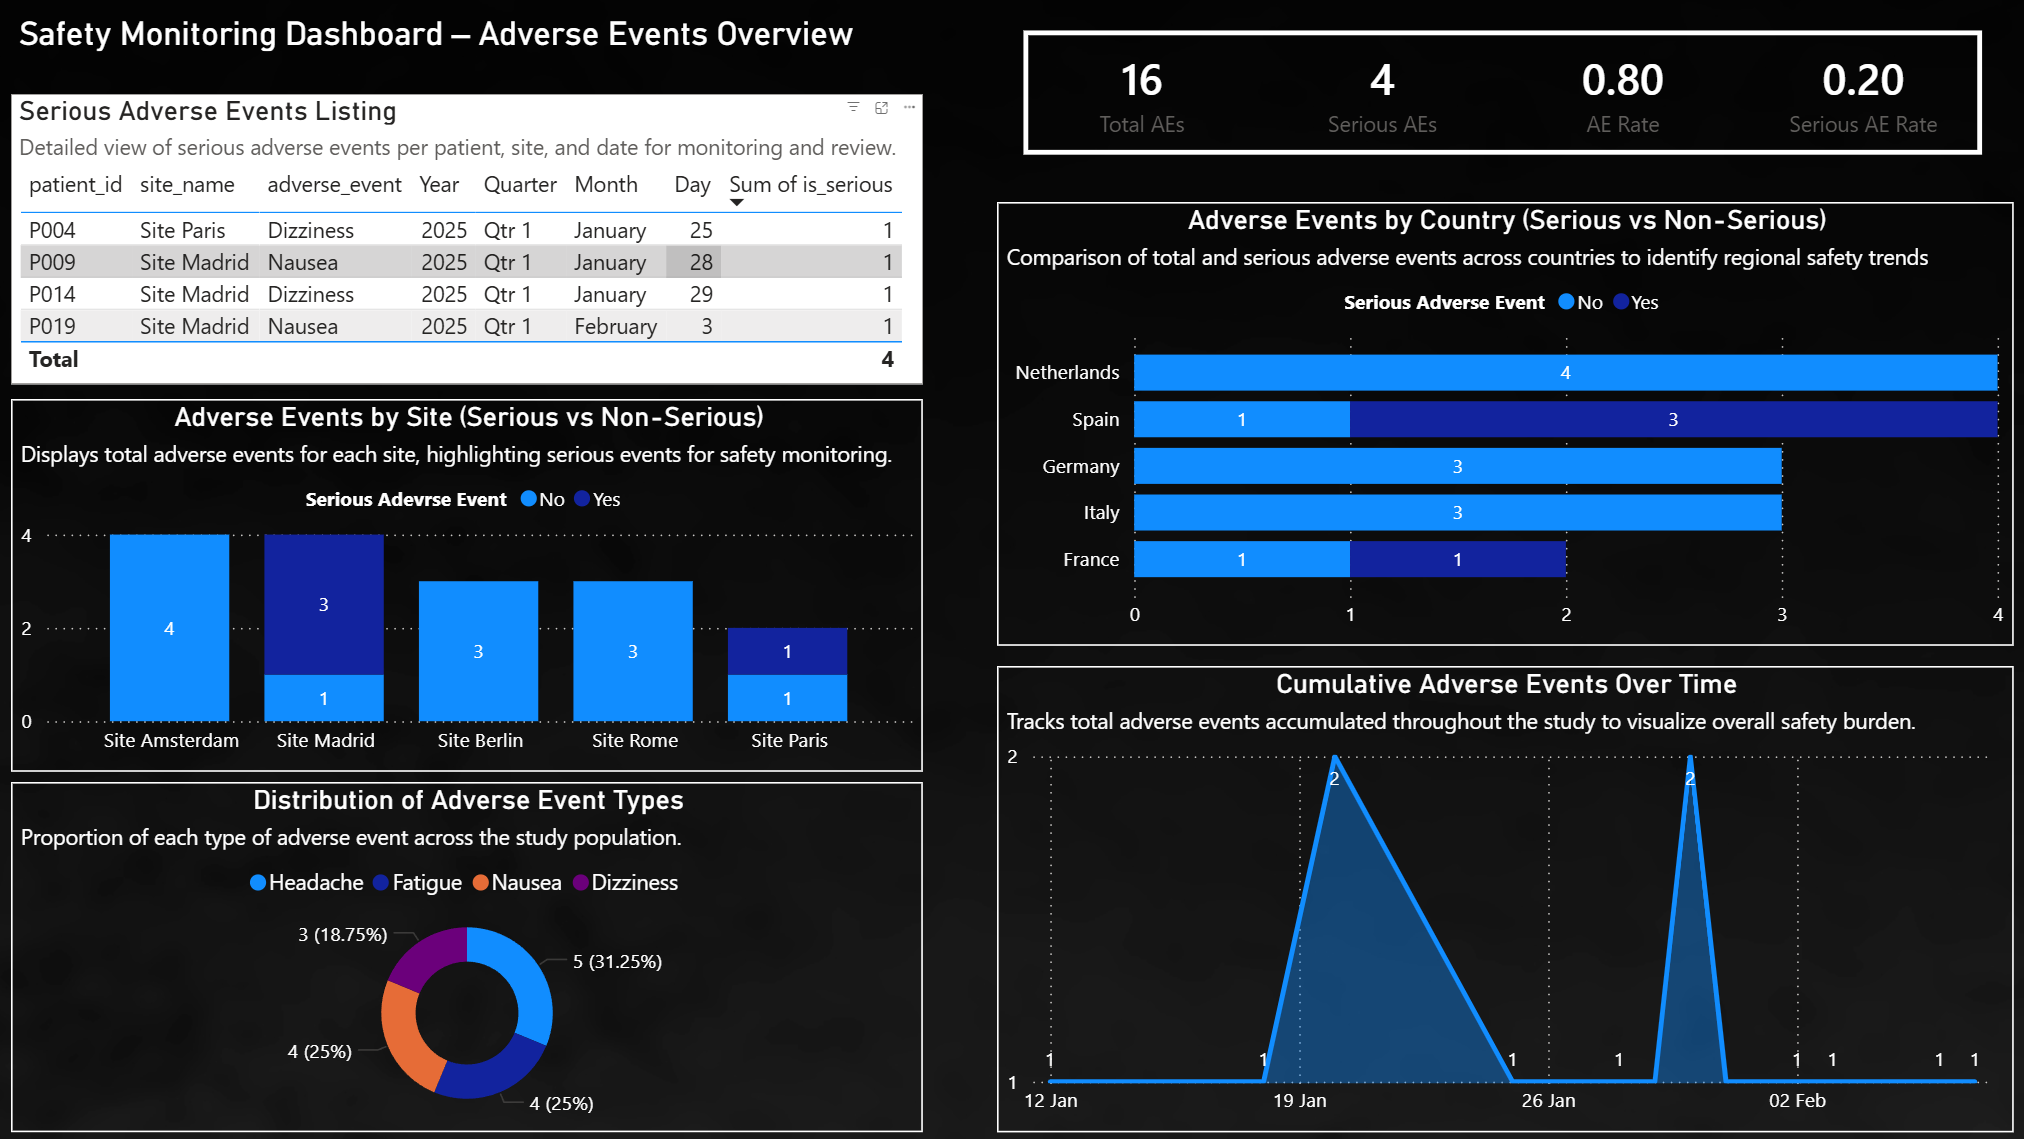

This screenshot's page, from the dashboard's own definition file:
{"tool":"powerbi","page":{"name":"Adverse Events Overview","canvas":[1280,720],"ordinal":1},"visuals":[{"type":"cardVisual","fields":{"Data":["clean_adverse_events.Total AEs","clean_adverse_events.Serious AEs","clean_adverse_events.AE Rate","clean_adverse_events.Serious AE Rate"]},"box":[640,11.9,630.6,111.5],"z":0},{"type":"columnChart","title":"Adverse Events by Site (Serious vs Non-Serious)","fields":{"Category":["clean_sites.site_name"],"Series":["clean_adverse_events.serious_ae"],"Y":["clean_adverse_events.Total AEs"]},"box":[29.8,257,565.1,230.6],"z":1000},{"type":"barChart","title":"Adverse Events by Country (Serious vs Non-Serious)","fields":{"Category":["clean_adverse_events.country"],"Series":["clean_adverse_events.serious_ae"],"Y":["clean_adverse_events.Total AEs"]},"box":[640.5,135.3,630,274.8],"z":2000},{"type":"donutChart","title":"Distribution of Adverse Event Types","fields":{"Category":["clean_adverse_events.adverse_event"],"Y":["CountNonNull(clean_adverse_events.ae_id)"]},"box":[30,494.2,565.1,216.7],"z":3000},{"type":"tableEx","title":"Serious Adverse Events Listing","fields":{"Values":["clean_patients.patient_id","clean_sites.site_name","clean_adverse_events.adverse_event","clean_adverse_events.ae_date.Variation.Date Hierarchy.Year","clean_adverse_events.ae_date.Variation.Date Hierarchy.Quarter","clean_adverse_events.ae_date.Variation.Date Hierarchy.Month","clean_adverse_events.ae_date.Variation.Date Hierarchy.Day","Sum(clean_adverse_events.is_serious)"]},"box":[29.8,68.1,565.1,179.6],"z":4000},{"type":"areaChart","title":"Cumulative Adverse Events Over Time","fields":{"Category":["clean_adverse_events.ae_date.Variation.Date Hierarchy.Year","clean_adverse_events.ae_date.Variation.Date Hierarchy.Quarter","clean_adverse_events.ae_date.Variation.Date Hierarchy.Month","clean_adverse_events.ae_date.Variation.Date Hierarchy.Day"],"Y":["clean_adverse_events.Cumulative AEs"]},"box":[640.5,422.8,630,288.6],"z":5000},{"type":"textbox","title":"Safety Monitoring Dashboard – Adverse Events Overview","box":[29.7,18.3,565.3,29],"z":6000}]}

Visuals, with their boxes in screenshot pixels (x1, y1, x2, y2), scaled from the page's 1280x720 canvas onto the 2024x1139 screenshot:
cardVisual - clean_adverse_events.Total AEs x clean_adverse_events.Serious AEs: select_region(1012, 19, 2009, 195)
"Adverse Events by Site (Serious vs Non-Serious)" columnChart: select_region(47, 407, 941, 771)
"Adverse Events by Country (Serious vs Non-Serious)" barChart: select_region(1013, 214, 2009, 649)
"Distribution of Adverse Event Types" donutChart: select_region(47, 782, 941, 1125)
"Serious Adverse Events Listing" tableEx: select_region(47, 108, 941, 392)
"Cumulative Adverse Events Over Time" areaChart: select_region(1013, 669, 2009, 1125)
"Safety Monitoring Dashboard – Adverse Events Overview" textbox: select_region(47, 29, 941, 75)
